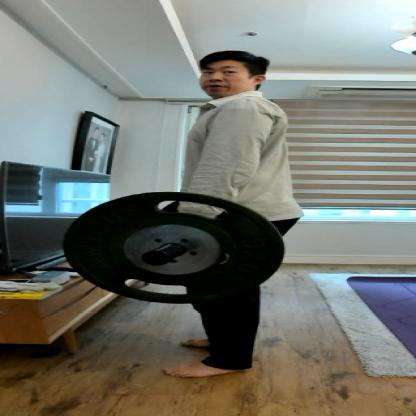Barbell: (56, 188, 298, 308)
